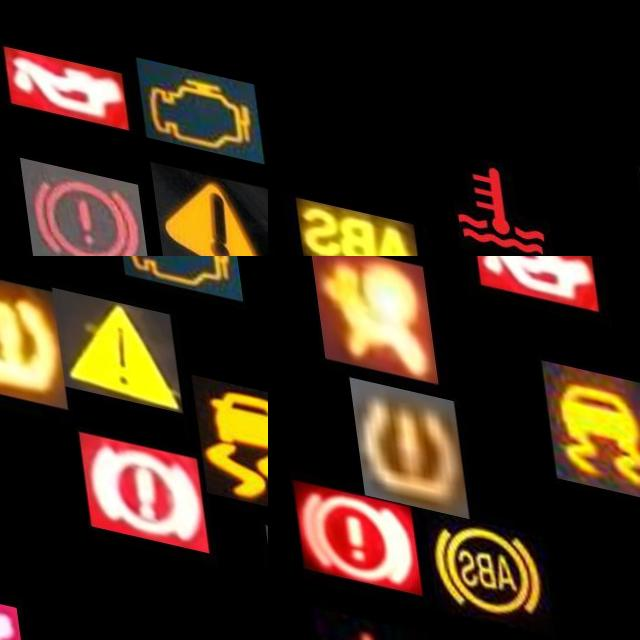Central Warning lamp: (47, 273, 175, 394), (145, 152, 268, 256)
Engine cooling system: (428, 123, 558, 256), (296, 605, 427, 640)
